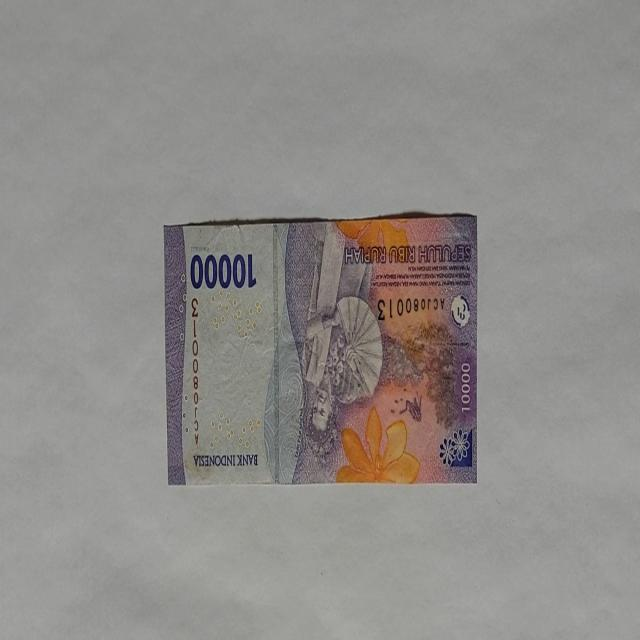sepuluh ribu rupiah: (163, 213, 479, 487), (188, 249, 258, 291)
